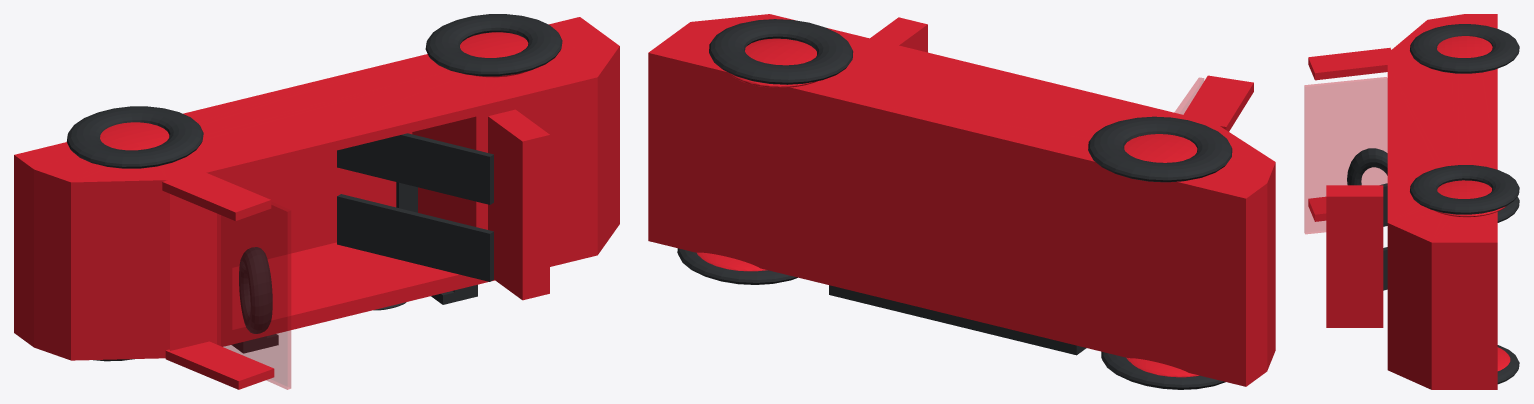
File: tinker.obj
3 renders of one model, left to right at view 1: azimuth 30°, elevation 25°; view 2: azimuth 150°, elevation 25°; view 3: azimuth 270°, elevation 25°, orthographic. The views are drawn at different scales.
Visible parts, largest first — view 1: group_0_15277357, group_0_2829873, group_0_-1024910035; view 2: group_0_15277357, group_0_2829873; view 3: group_0_15277357, group_0_2829873, group_0_-1024910035.
Part boxes in pixels (x1,y1,x2,y2): group_0_15277357: [14, 17, 619, 389]; group_0_2829873: [66, 14, 562, 361]; group_0_-1024910035: [217, 202, 290, 389]; group_0_15277357: [648, 14, 1275, 386]; group_0_2829873: [677, 19, 1232, 389]; group_0_15277357: [1308, 14, 1510, 389]; group_0_2829873: [1347, 24, 1519, 384]; group_0_-1024910035: [1304, 77, 1387, 233].
Size of the model in its own units: 123 by 44 by 49.
